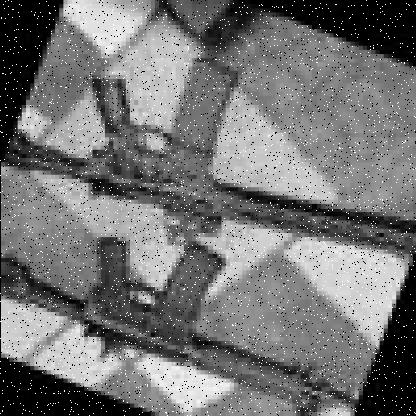rifle: (4, 12, 416, 312), (0, 166, 387, 416)
